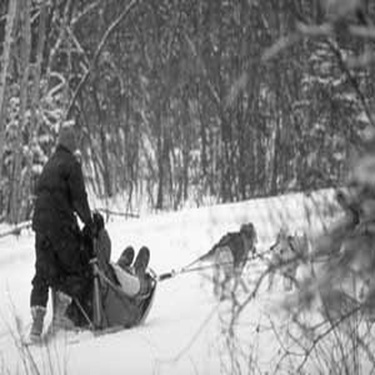dog: (191, 213, 266, 316), (242, 219, 312, 303), (309, 209, 349, 286)
